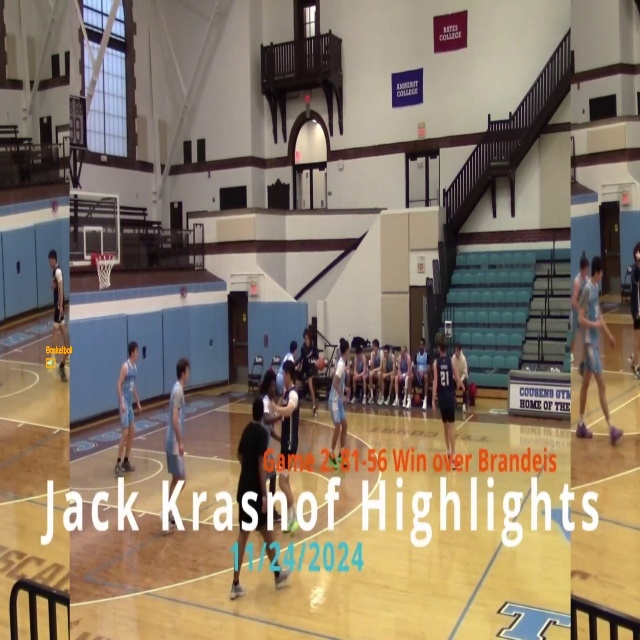Basketball: (46, 359, 55, 367)
